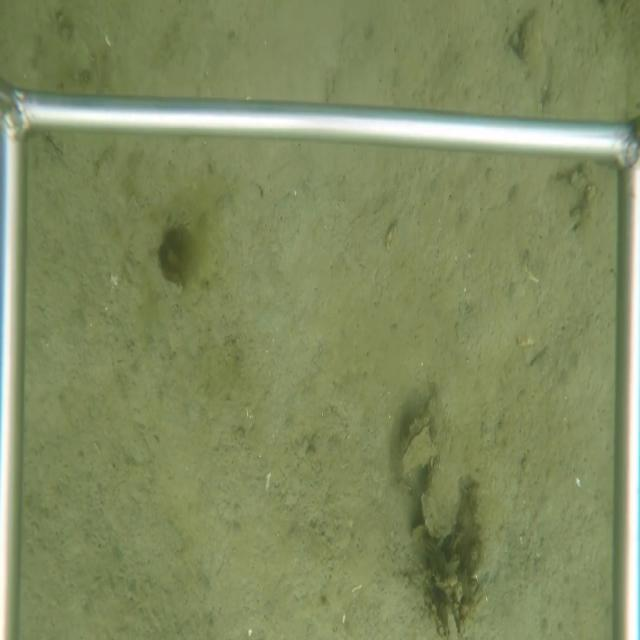Oyster-Closed: (419, 459, 464, 541), (399, 413, 437, 472)
